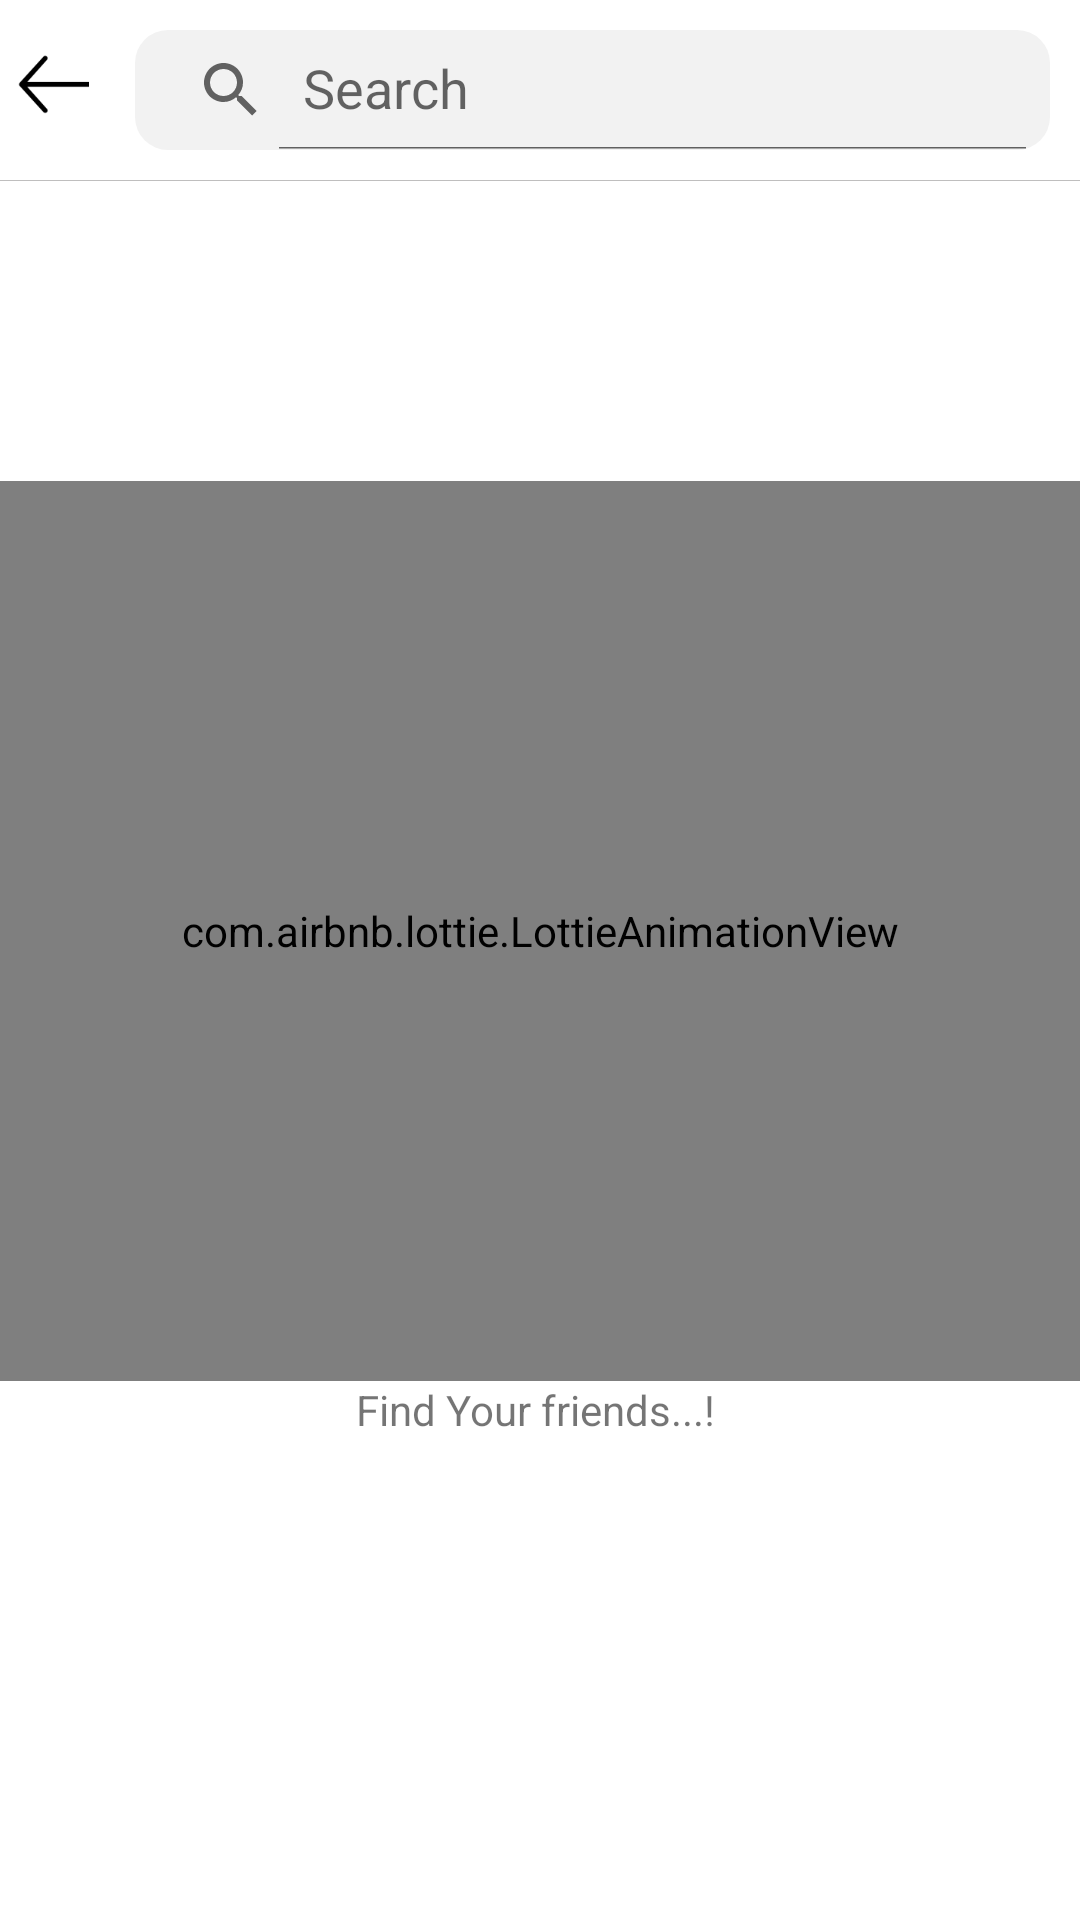

Named icons in this screenshot (1080*1920) and their bounding boxes, region(x1, y1, x2, y2):
back: region(18, 55, 89, 113)
